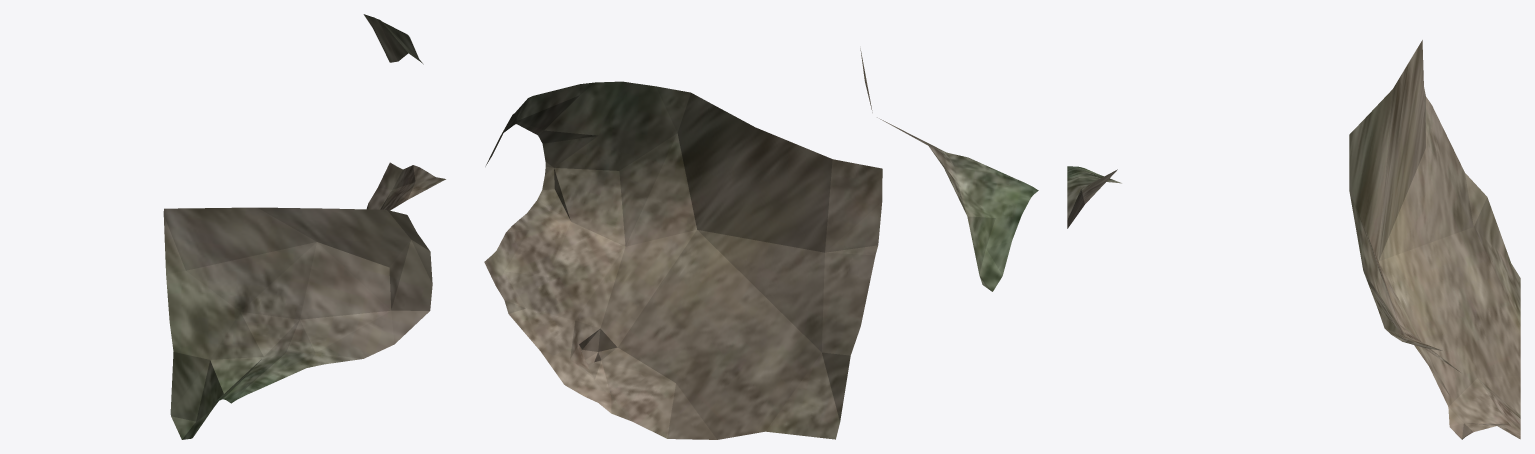
3 renders of one model, left to right at view 1: azimuth 30°, elevation 25°; view 2: azimuth 150°, elevation 25°; view 3: azimuth 270°, elevation 25°, orthographic. The views are drawn at different scales.
Bounding box in the file's own units: 2.95 × 2.22 × 2.95.
Materials: 3 (3 with a texture image).
